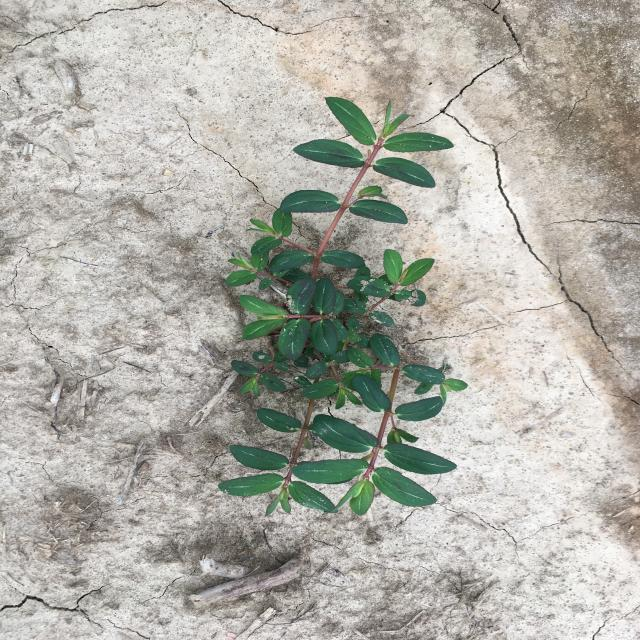SpottedSpurge: (218, 97, 469, 523)
